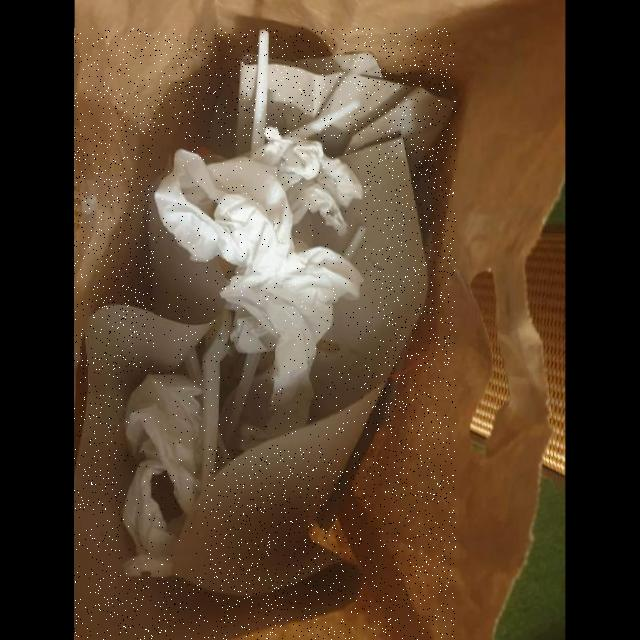paper: (74, 28, 456, 640), (155, 138, 364, 448), (123, 373, 204, 576)
